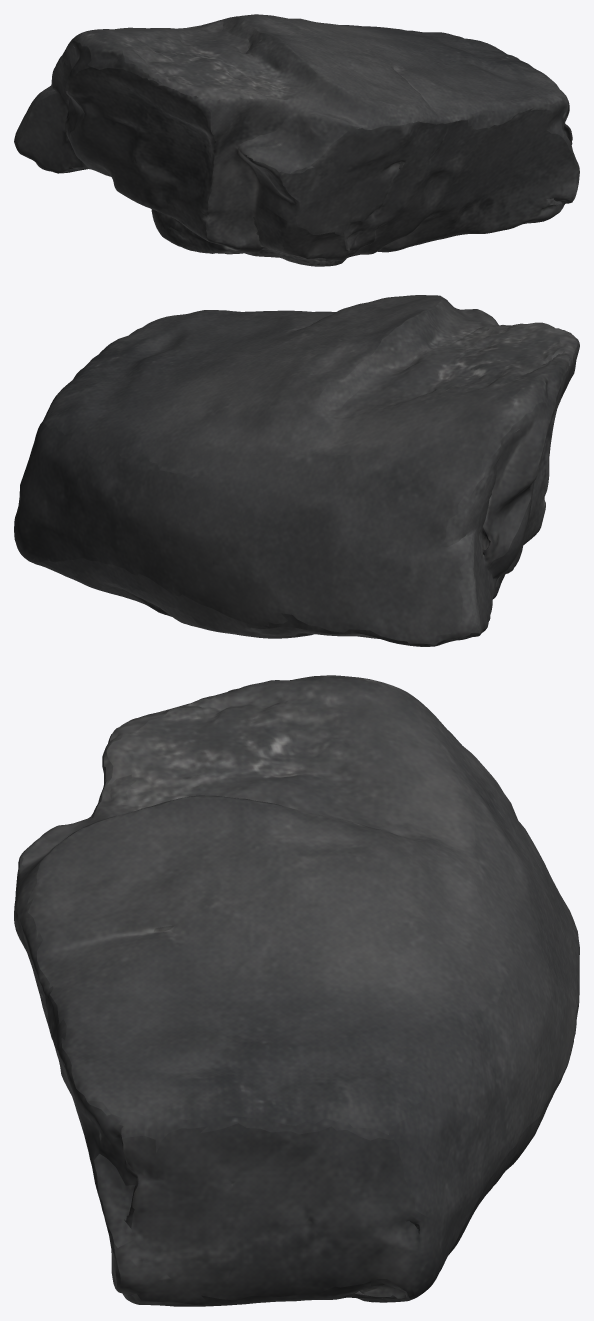
3 views of the same model, one above another, from view 1: azimuth 30°, elevation 25°; view 2: azimuth 150°, elevation 25°; view 3: azimuth 270°, elevation 25° (orthographic). The views are drawn at different scales.
Visible parts, largest first — view 1: world; view 2: world; view 3: world.
Part boxes in pixels (x1,y1,x2,y2): world: [14, 14, 579, 266]; world: [14, 295, 579, 646]; world: [14, 675, 579, 1306].
Bounding box in the file's own units: 2.5 × 1.25 × 1.87.
Materials: 1 (1 with a texture image).
